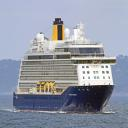cruises: (13, 18, 119, 115)
